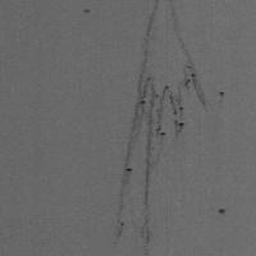Water spot: (117, 0, 206, 244), (218, 208, 226, 214)
